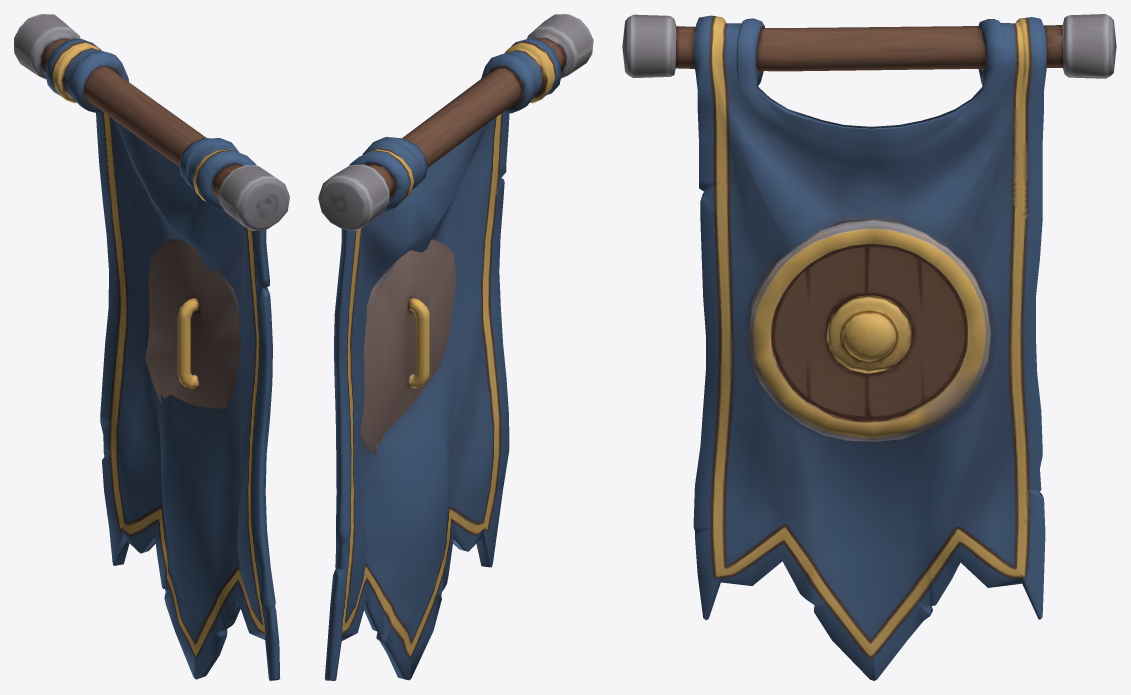
Rendered from addon_banner_tripo.glb.
The picture shows the model from 3 angles, left to right: view 1: azimuth 30°, elevation 25°; view 2: azimuth 150°, elevation 25°; view 3: azimuth 270°, elevation 25°; orthographic projection. The views are drawn at different scales.
Parts seen in each view (by area): view 1: tripo_node_f69b0d07-bdcd-432f-a1f4-33771f368afa; view 2: tripo_node_f69b0d07-bdcd-432f-a1f4-33771f368afa; view 3: tripo_node_f69b0d07-bdcd-432f-a1f4-33771f368afa.
Part boxes in pixels (x1,y1,x2,y2): tripo_node_f69b0d07-bdcd-432f-a1f4-33771f368afa: [14, 14, 289, 680]; tripo_node_f69b0d07-bdcd-432f-a1f4-33771f368afa: [318, 14, 593, 680]; tripo_node_f69b0d07-bdcd-432f-a1f4-33771f368afa: [622, 14, 1116, 680].
Size of the model in its own units: 0.1855 by 0.998 by 0.7051.
1 material, 1 textured.
